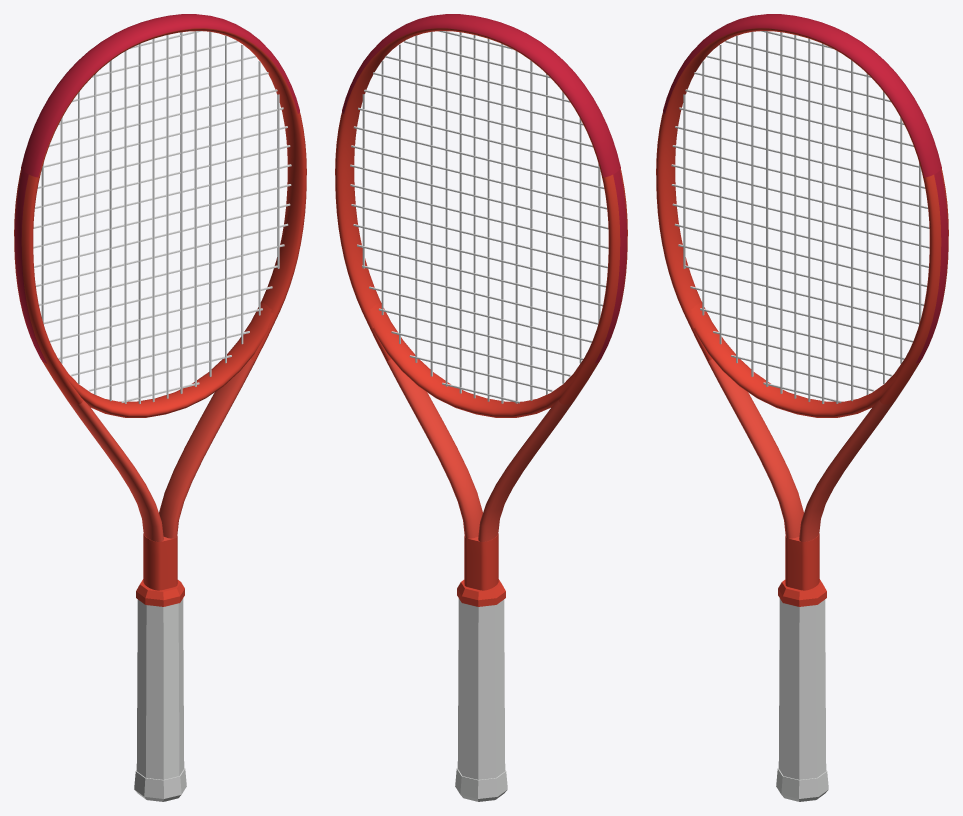
The model's file is wilson-clash-100-v3--reverse.glb.
The picture shows the model from 3 angles, left to right: view 1: azimuth 30°, elevation 25°; view 2: azimuth 150°, elevation 25°; view 3: azimuth 330°, elevation 25°; orthographic projection.
Visible parts, largest first — view 1: frame, strings_mains, strings_crosses, grip, bumper, grommets, butt_cap, collar; view 2: frame, strings_mains, strings_crosses, grip, bumper, grommets, butt_cap, collar; view 3: frame, strings_mains, strings_crosses, grip, bumper, grommets, butt_cap, collar.
Boxes of the visible parts, <box> form: frame: <box>14,28,306,590</box>; strings_mains: <box>41,31,279,403</box>; strings_crosses: <box>33,31,291,402</box>; grip: <box>136,598,184,779</box>; bumper: <box>21,14,299,177</box>; grommets: <box>15,170,46,363</box>; butt_cap: <box>134,768,186,801</box>; collar: <box>136,579,184,606</box>; frame: <box>335,28,627,590</box>; strings_mains: <box>362,31,600,403</box>; strings_crosses: <box>350,31,608,403</box>; grip: <box>457,598,505,779</box>; bumper: <box>342,14,620,177</box>; grommets: <box>595,170,626,363</box>; butt_cap: <box>455,768,507,801</box>; collar: <box>457,579,505,606</box>; frame: <box>656,28,948,590</box>; strings_mains: <box>683,31,921,403</box>; strings_crosses: <box>671,31,929,402</box>; grip: <box>778,598,826,779</box>; bumper: <box>663,14,941,177</box>; grommets: <box>916,170,947,363</box>; butt_cap: <box>776,768,828,801</box>; collar: <box>778,579,826,606</box>.
Bounding box in the file's own units: 0.2659 × 0.6861 × 0.0396.
